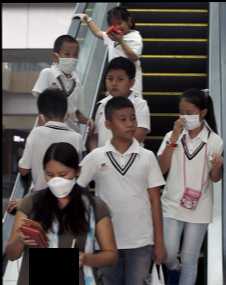with_mask: (42, 168, 76, 200), (56, 47, 80, 73), (177, 107, 201, 131)
without_mask: (113, 113, 138, 141), (104, 73, 130, 99), (108, 20, 130, 36)
